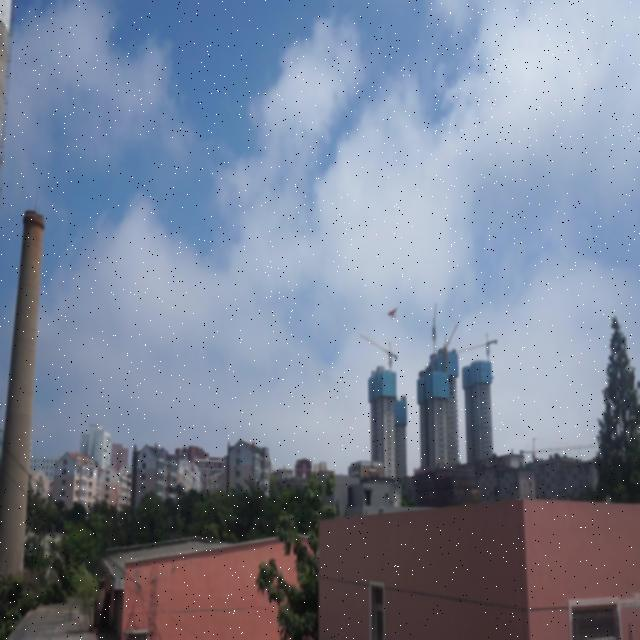UAV: (384, 305, 400, 320)
